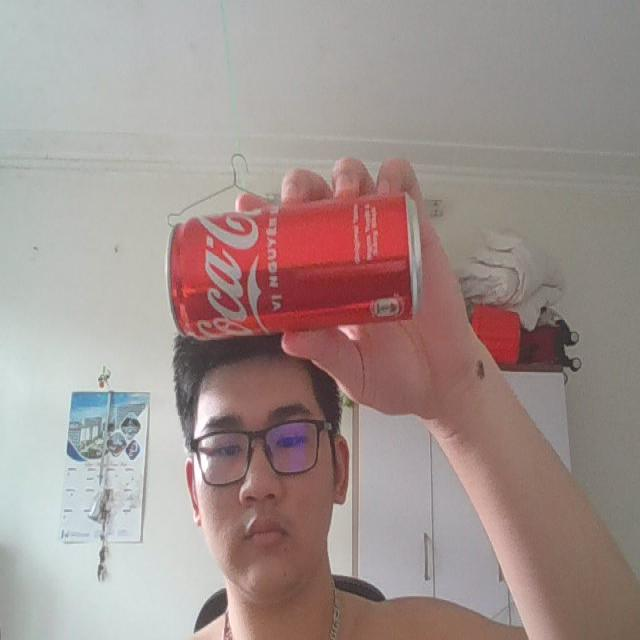Coca Cola: (164, 192, 422, 344)
